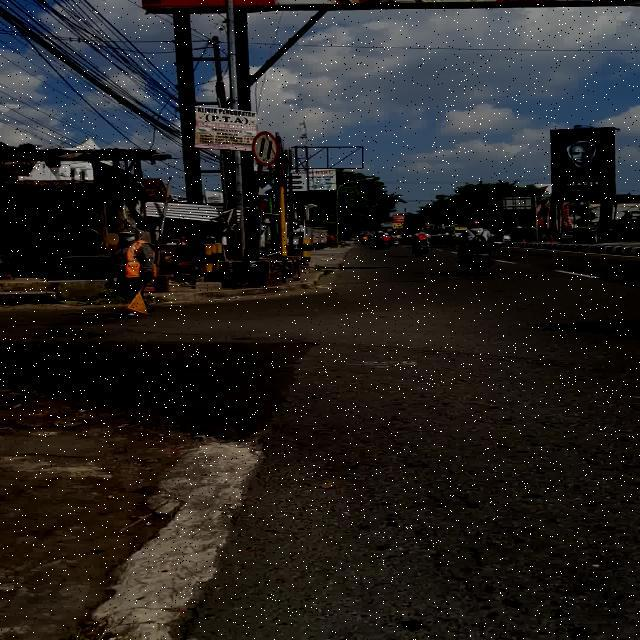Larangan Muatan - 10 ton: (252, 131, 278, 165)
